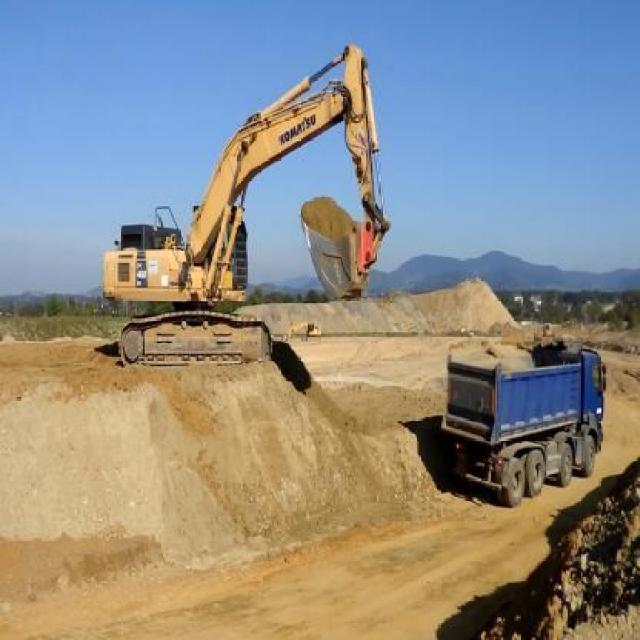Dump Truck: (439, 319, 610, 501)
Excavator: (93, 42, 392, 376)
